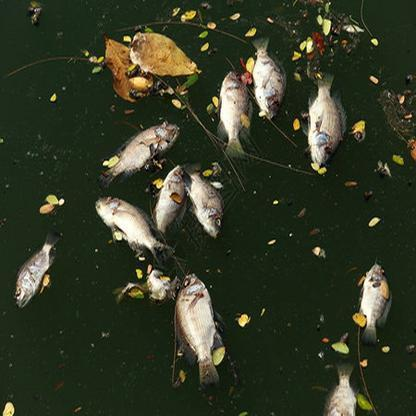deceased fish: (173, 272, 227, 387), (92, 195, 173, 267), (99, 118, 180, 187), (13, 229, 63, 310), (308, 66, 344, 167), (216, 71, 251, 159), (356, 259, 392, 341), (251, 34, 286, 118), (186, 164, 225, 238), (155, 165, 184, 232), (325, 362, 360, 416)
